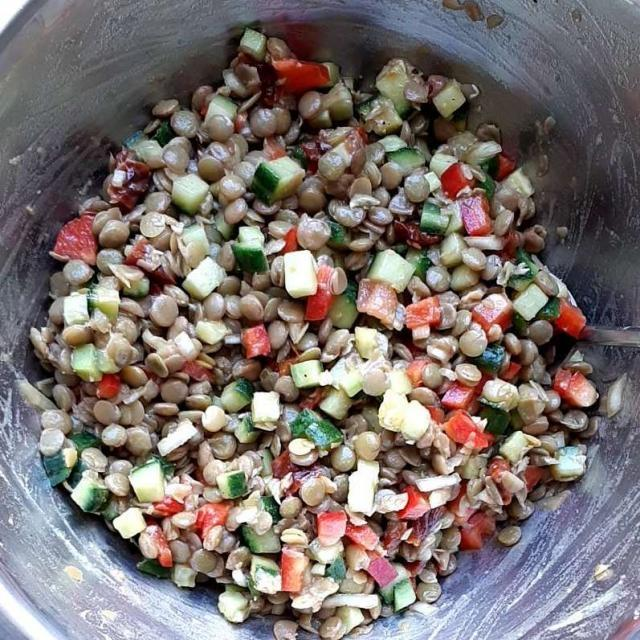lentils: (95, 148, 427, 576)
